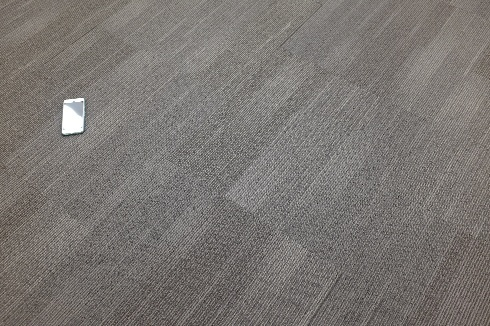phone: (49, 101, 98, 133)
